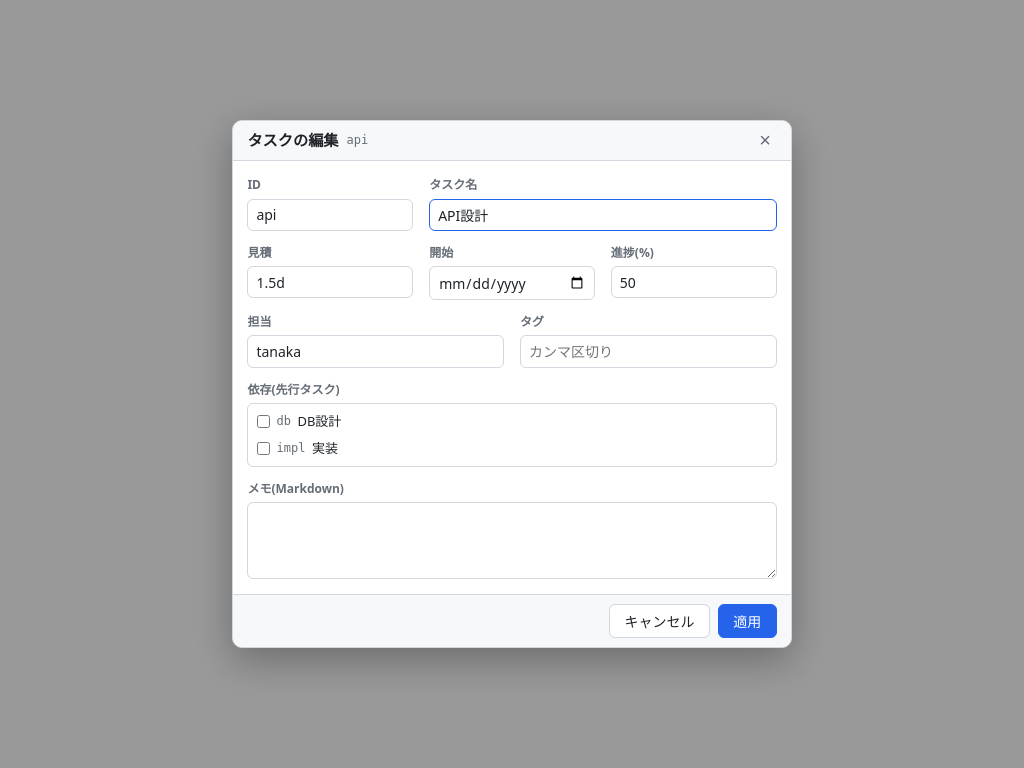
Test: TaskDialog › id が他タスクと重複するとエラーになる
Clear the field labelled "ID" at x=330, y=215, box x1=247 y1=199 x2=413 y2=231
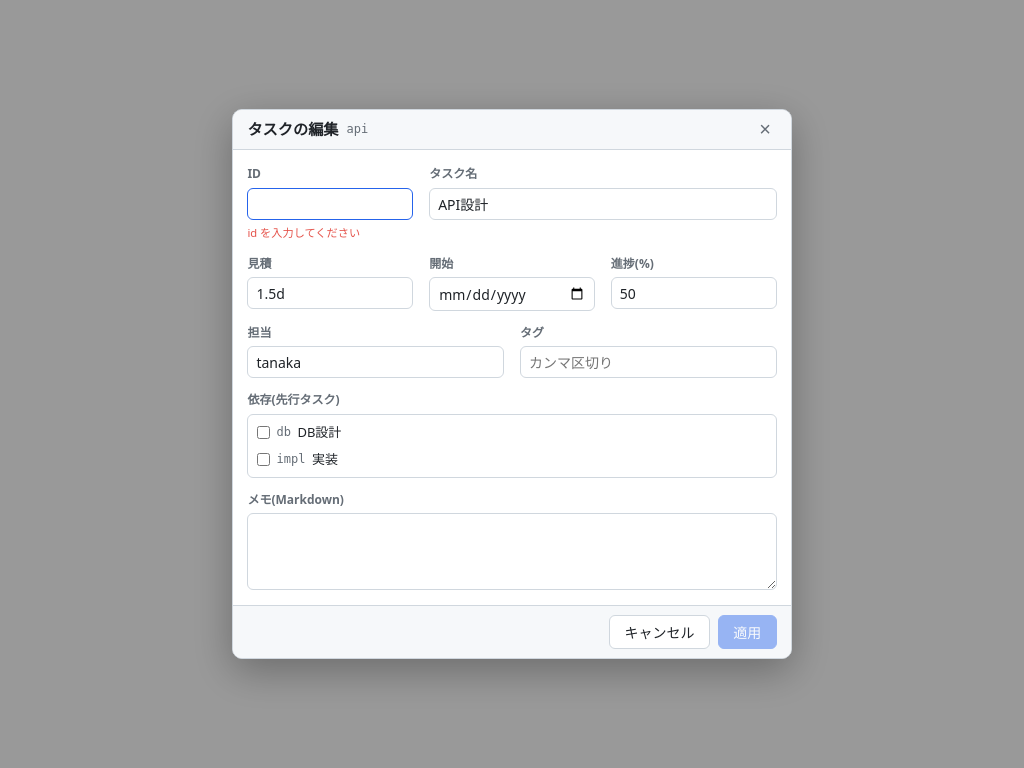
Type "db" into the field labelled "ID" at x=330, y=204, box x1=247 y1=188 x2=413 y2=220
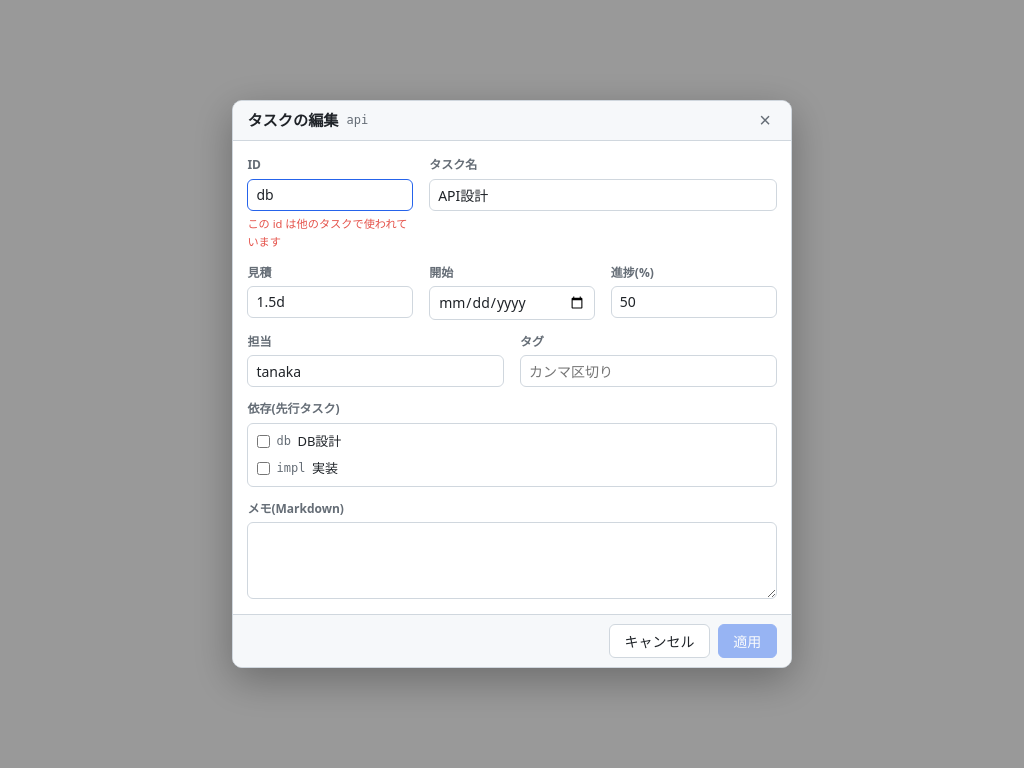
Result: the button "適用" is disabled at x1=718 y1=624 x2=777 y2=658
Result: the text "この id は他のタスクで使われています" is shown at x1=247 y1=215 x2=413 y2=251
